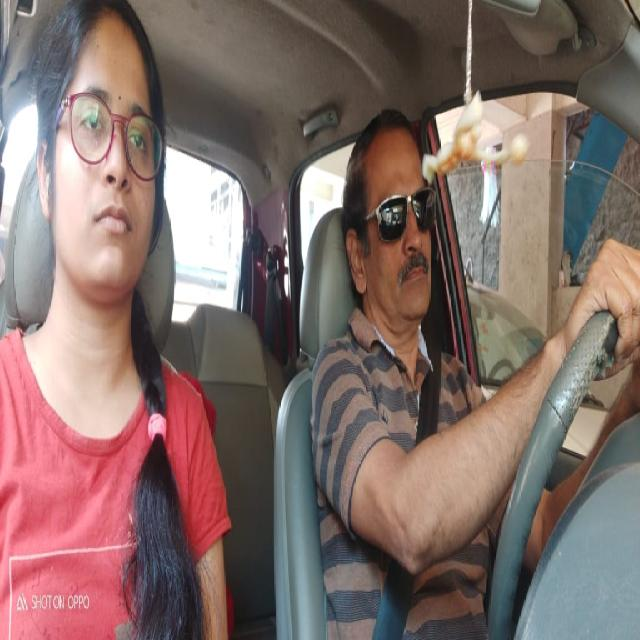person: (29, 0, 168, 312), (339, 103, 444, 342)
